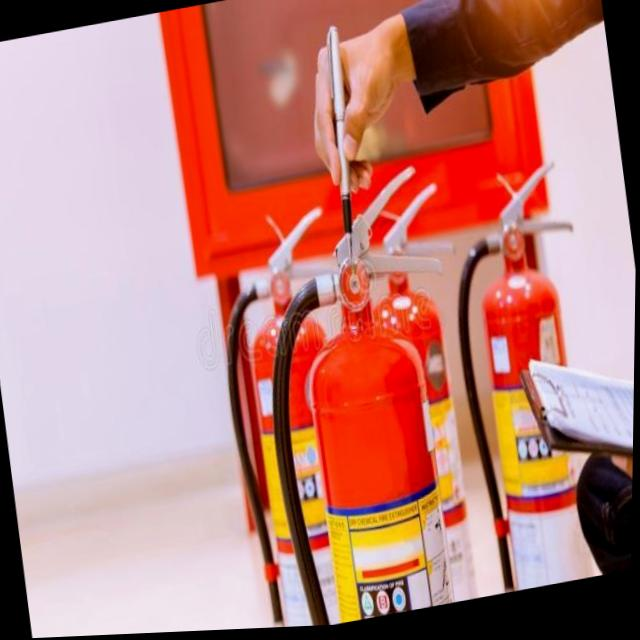FireExtinguisher: (233, 155, 494, 632), (196, 191, 392, 633), (432, 156, 626, 601)
